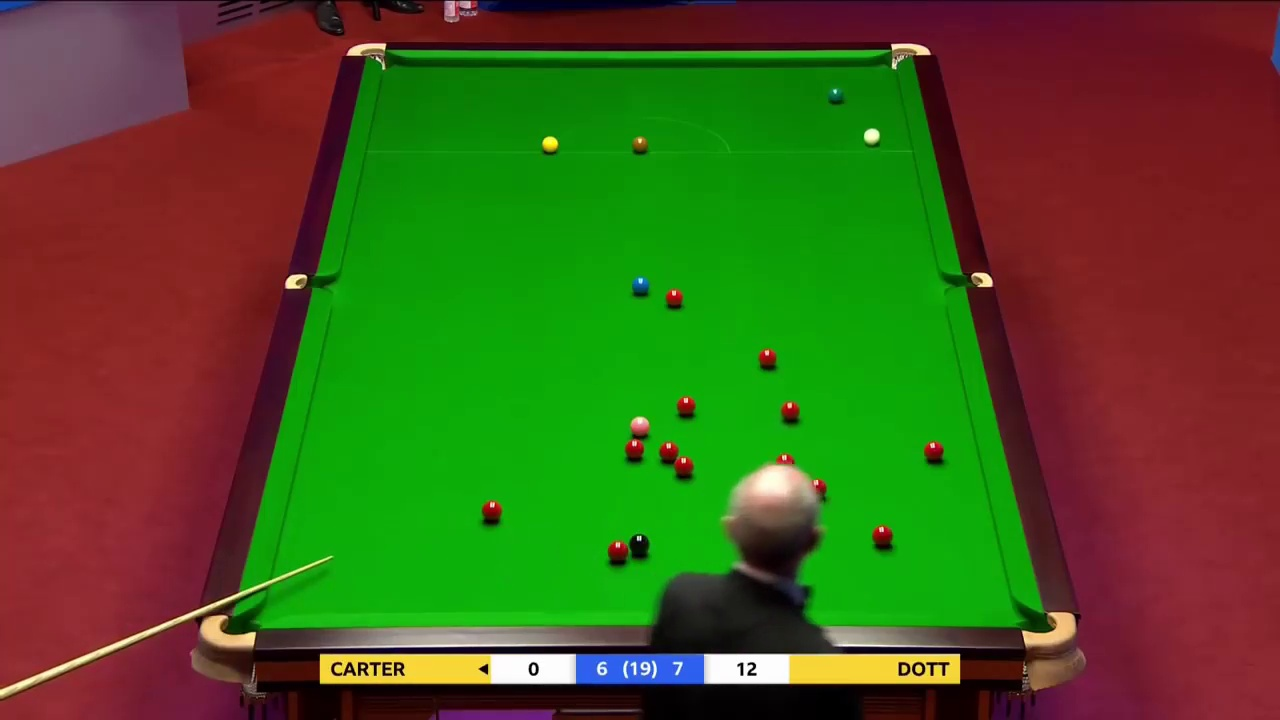ball: (628, 413, 653, 437), (622, 437, 648, 459), (923, 440, 946, 463), (872, 524, 894, 546), (672, 456, 694, 477), (480, 499, 501, 521), (756, 349, 778, 369), (779, 401, 800, 421), (675, 395, 696, 415), (609, 543, 628, 563), (827, 86, 847, 104), (666, 289, 686, 307), (630, 135, 648, 153), (540, 135, 560, 151), (630, 276, 647, 294)
